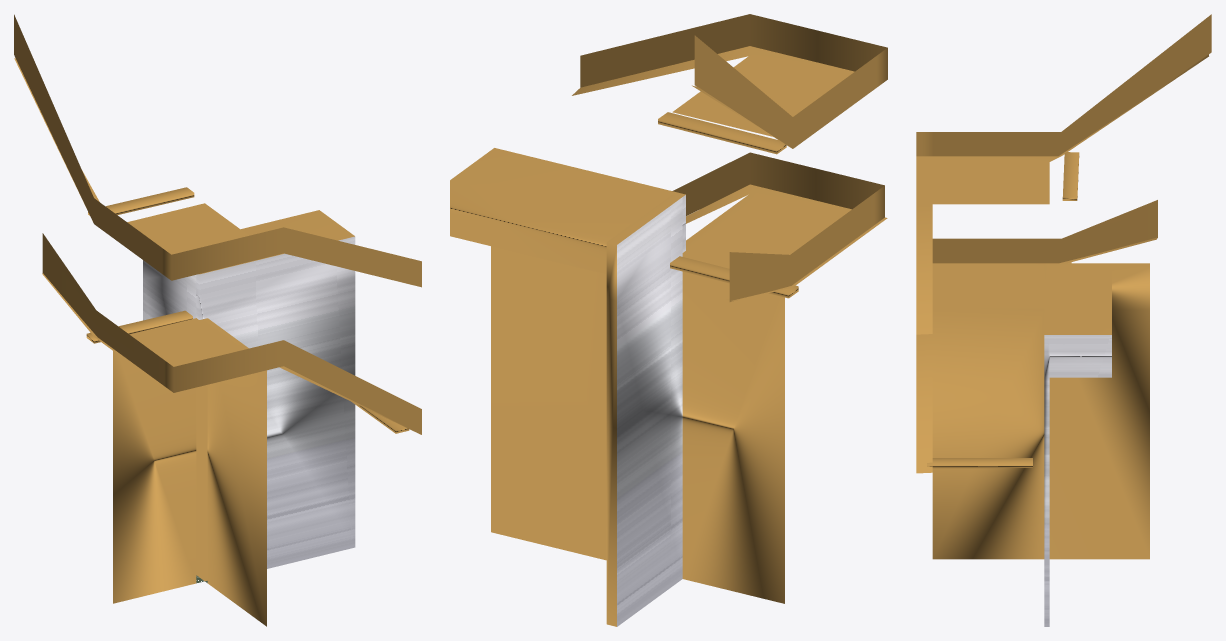
The model's file is NewStairRails.glb.
The picture shows the model from 3 angles, left to right: view 1: azimuth 30°, elevation 25°; view 2: azimuth 150°, elevation 25°; view 3: azimuth 270°, elevation 25°; orthographic projection. The views are drawn at different scales.
Visible parts, largest first — view 1: Stairs.001, StairRails, StairRails.001, Stairs, StairTop, StairTop.001; view 2: Stairs.001, StairRails, StairRails.001, Stairs, StairTop, StairTop.001; view 3: Stairs.001, Stairs, StairRails, StairRails.001, StairTop.002, StairTop.
Part boxes in pixels (x1,y1,x2,y2): Stairs.001: (42, 210, 414, 626); StairRails: (14, 14, 421, 287); StairRails.001: (42, 233, 421, 434); Stairs: (14, 58, 248, 254); StairTop: (88, 187, 194, 215); StairTop.001: (86, 310, 192, 343); Stairs.001: (450, 148, 887, 626); StairRails: (580, 14, 887, 148); StairRails.001: (672, 152, 884, 301); Stairs: (572, 46, 854, 146); StairTop: (658, 112, 786, 154); StairTop.001: (670, 256, 798, 298); Stairs.001: (916, 237, 1156, 626); Stairs: (916, 54, 1208, 334); StairRails: (916, 14, 1211, 156); StairRails.001: (932, 200, 1157, 263); StairTop.002: (927, 458, 1032, 468); StairTop: (1062, 152, 1079, 200).
Bounding box in the file's own units: 5.2 × 10.35 × 5.58.
2 materials, 2 textured.
